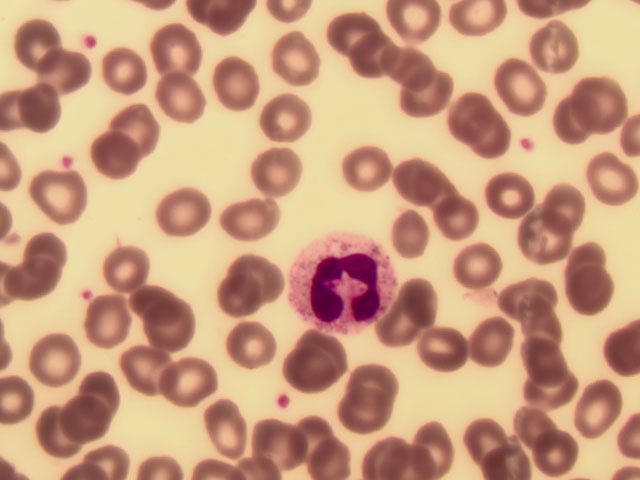Platelets: (274, 394, 296, 408), (517, 137, 535, 153), (60, 152, 74, 170), (83, 31, 95, 48), (77, 291, 96, 301)
RBC: (150, 19, 204, 82), (92, 39, 146, 102), (157, 68, 211, 131), (117, 92, 171, 155), (93, 123, 147, 186), (43, 46, 97, 109), (18, 79, 72, 142), (32, 169, 86, 232), (22, 210, 76, 273), (8, 252, 62, 315), (32, 325, 86, 388), (76, 349, 130, 412), (69, 391, 123, 454), (37, 398, 91, 461), (200, 396, 254, 459), (152, 344, 206, 407), (112, 333, 166, 396), (159, 290, 213, 353), (124, 272, 178, 335), (100, 235, 154, 298), (90, 295, 144, 358), (154, 185, 208, 248), (223, 186, 277, 249), (250, 143, 304, 206), (264, 92, 318, 155), (270, 30, 324, 93), (210, 55, 264, 118), (348, 28, 402, 91), (378, 39, 432, 102), (404, 64, 458, 127), (495, 54, 549, 117), (532, 17, 586, 80), (480, 100, 534, 163), (453, 90, 507, 153), (543, 103, 597, 166), (573, 63, 627, 126), (586, 149, 640, 212), (541, 173, 595, 236), (511, 213, 565, 276), (480, 163, 534, 226), (559, 259, 613, 322), (500, 261, 559, 318), (507, 294, 566, 351), (512, 328, 571, 385), (518, 359, 577, 416), (568, 388, 627, 445), (531, 420, 590, 477), (500, 400, 559, 457), (456, 413, 515, 470), (411, 419, 470, 476), (351, 423, 410, 480), (333, 387, 392, 444), (340, 353, 399, 410), (414, 321, 473, 378), (463, 317, 522, 374), (454, 231, 513, 288), (436, 194, 495, 251), (395, 154, 454, 211), (343, 142, 402, 199), (381, 212, 440, 269), (283, 338, 342, 395), (225, 319, 284, 376), (210, 275, 269, 332), (222, 244, 281, 301), (245, 413, 304, 470), (296, 412, 355, 469), (10, 1, 64, 63), (327, 1, 381, 63)
WBC: (285, 229, 395, 328)
